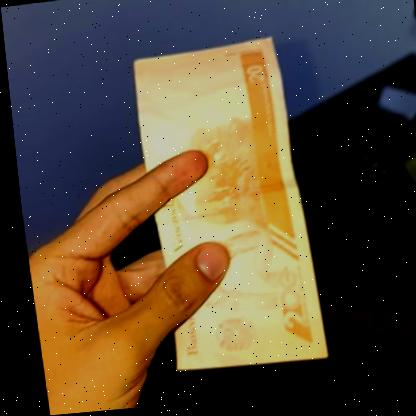twenty-back-vef: (126, 44, 318, 381)
